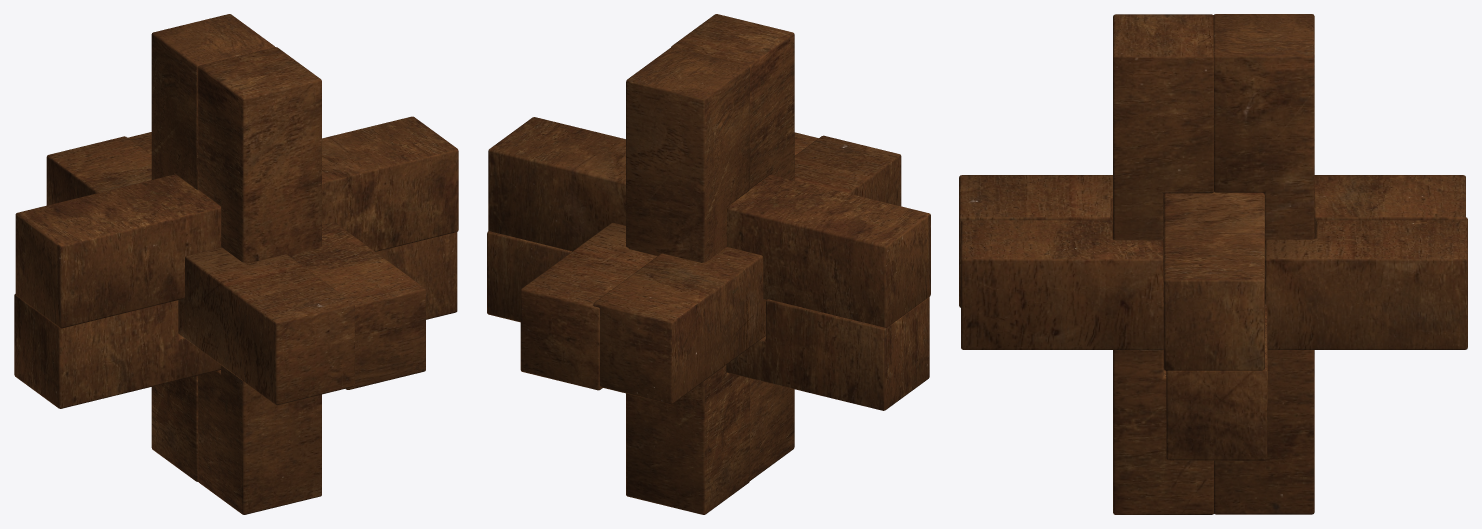
Rendered from target_full.glb.
3 views of the same model, side by side, from view 1: azimuth 30°, elevation 25°; view 2: azimuth 150°, elevation 25°; view 3: azimuth 270°, elevation 25° (orthographic). The views are drawn at different scales.
Visible parts, largest first — view 1: luban_f, luban_c, luban_e, luban_a, luban_b, luban_d; view 2: luban_b, luban_f, luban_e, luban_a, luban_c, luban_d; view 3: luban_d, luban_c, luban_b, luban_f, luban_e, luban_a.
Part boxes in pixels (box(x1,y1,x2,y2)): luban_f: box(15, 116, 458, 328); luban_c: box(198, 47, 321, 514); luban_e: box(46, 136, 354, 405); luban_a: box(14, 232, 457, 408); luban_b: box(151, 14, 274, 481); luban_d: box(128, 132, 425, 389); luban_b: box(626, 47, 749, 514); luban_f: box(488, 117, 930, 327); luban_e: box(593, 135, 901, 404); luban_a: box(487, 231, 929, 410); luban_c: box(671, 14, 794, 480); luban_d: box(520, 132, 818, 390); luban_d: box(961, 217, 1467, 349); luban_c: box(1113, 14, 1213, 514); luban_b: box(1213, 14, 1314, 514); luban_f: box(1163, 192, 1264, 370); luban_e: box(959, 175, 1465, 307); luban_a: box(1166, 306, 1267, 460).
Size of the model in its own units: 10 by 10 by 10.04.
1 material, 1 textured.
